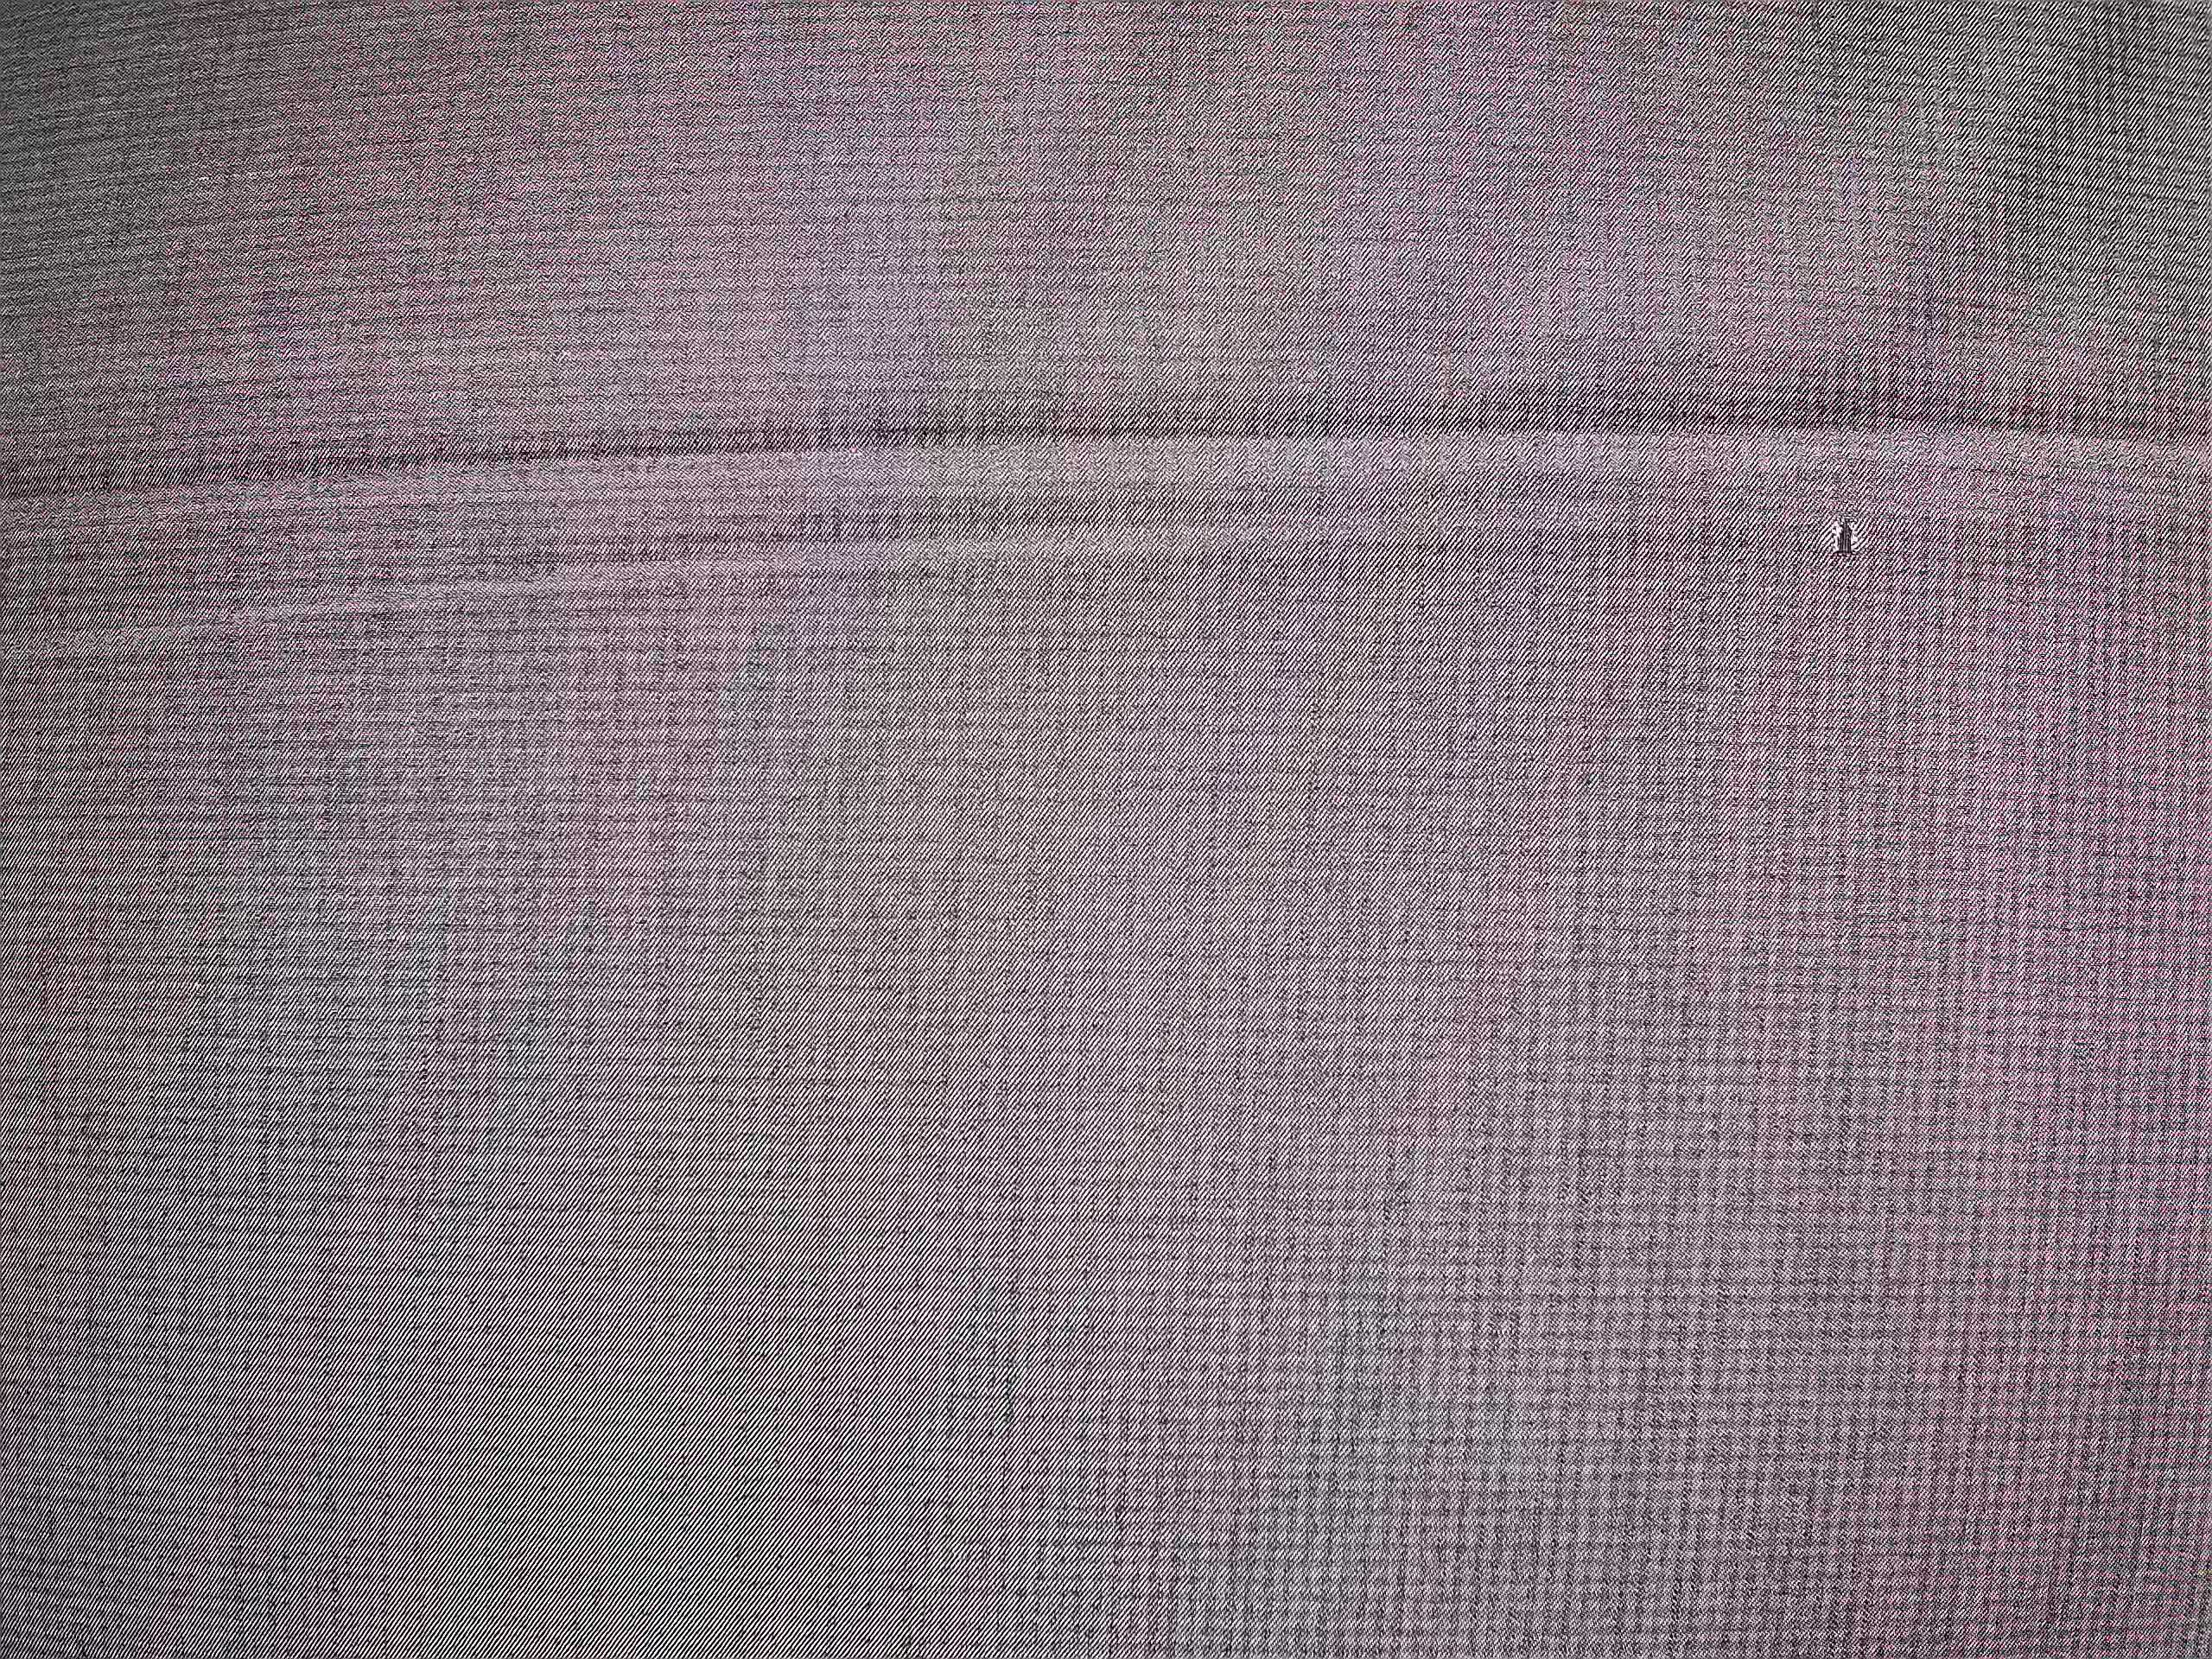rubbing-hole: (1813, 498, 1879, 573)
